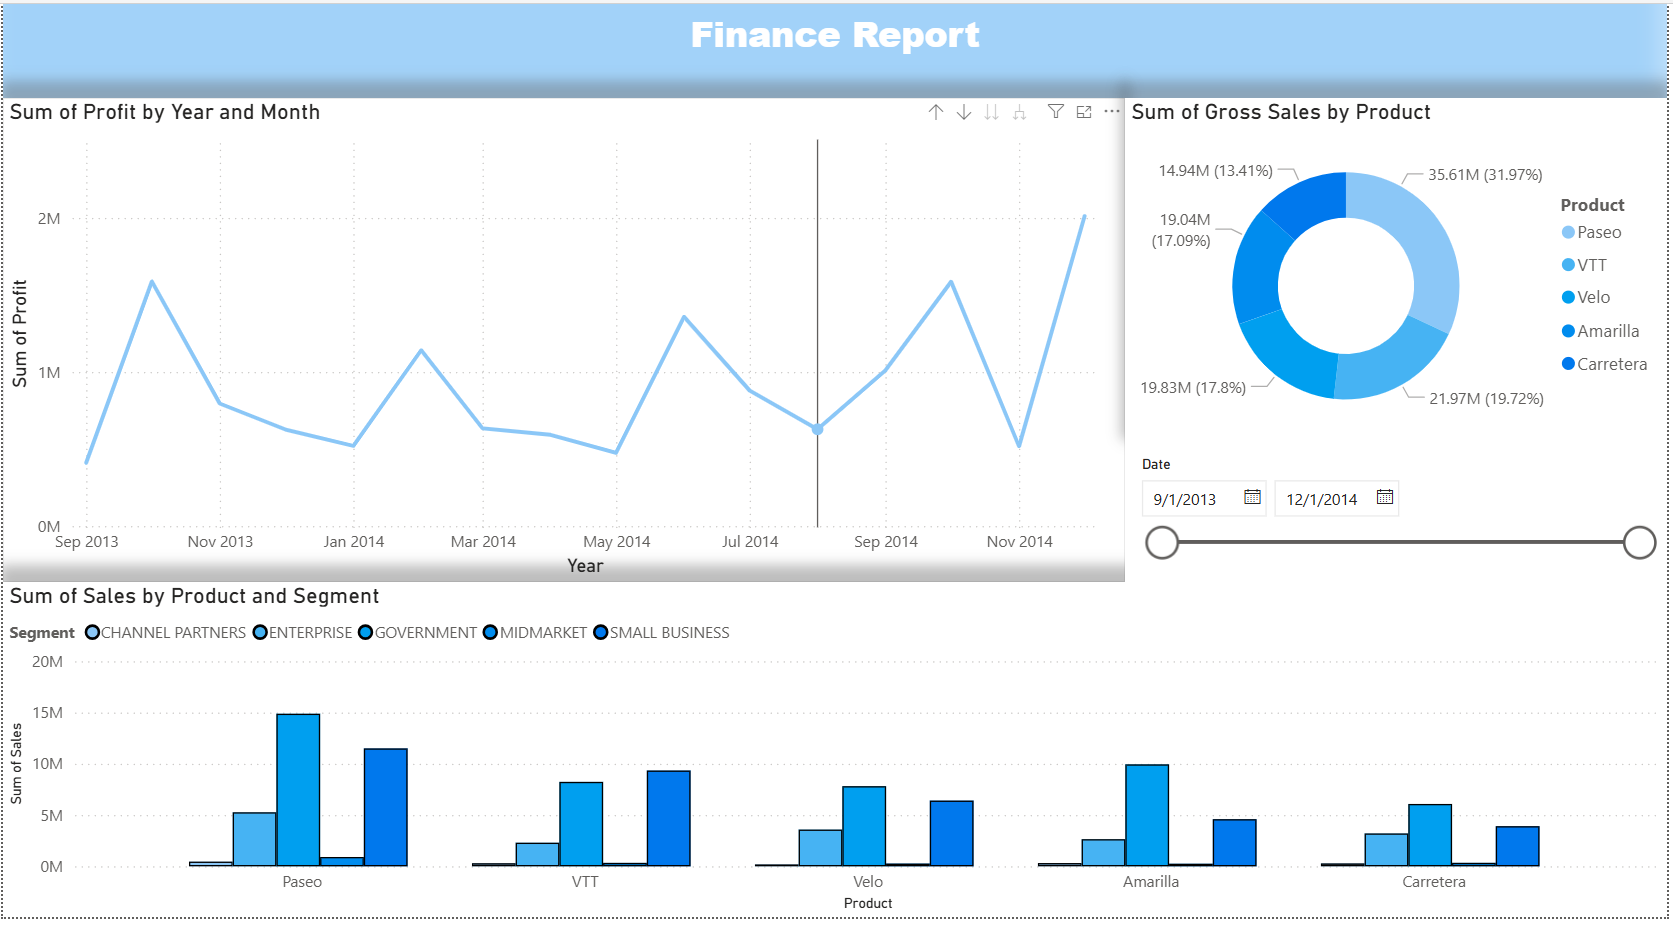

This screenshot's page, from the dashboard's own definition file:
{"tool":"powerbi","page":{"name":"Page 1","canvas":[1280,720],"ordinal":0},"visuals":[{"type":"textbox","box":[0,0,1280,90],"z":0},{"type":"lineChart","fields":{"Category":["Calendar.Date.Variation.Date Hierarchy.Year","Calendar.Date.Variation.Date Hierarchy.Month"],"Y":["Sum(financials.Profit)"]},"box":[0,90,863.1,372.3],"z":1000},{"type":"donutChart","fields":{"Category":["financials.Product"],"Y":["Sum(financials.Gross Sales)"]},"box":[863.1,90,416.9,270],"z":2000},{"type":"clusteredColumnChart","fields":{"Y":["Sum(financials.Sales)"],"Category":["financials.Product"],"Series":["financials.Segment"]},"box":[0,462.3,1280,257.7],"z":3000},{"type":"slicer","fields":{"Values":["financials.Date"]},"box":[863.1,360,416.9,102.3],"z":4000}]}

Visuals, with their boxes in screenshot pixels (x1, y1, x2, y2), scaled from the page's 1280x720 canvas onto the 1673x929 screenshot:
textbox: select_region(0, 0, 1672, 116)
lineChart - Calendar.Date.Variation.Date Hierarchy.Year x Calendar.Date.Variation.Date Hierarchy.Month: select_region(0, 116, 1128, 596)
donutChart - financials.Product x Sum(financials.Gross Sales): select_region(1128, 116, 1672, 464)
clusteredColumnChart - Sum(financials.Sales) x financials.Product: select_region(0, 596, 1672, 928)
slicer - financials.Date: select_region(1128, 464, 1672, 596)
